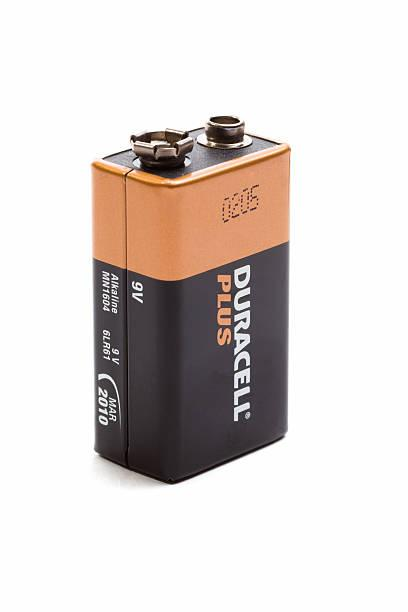9V Battery: (91, 116, 291, 486)
